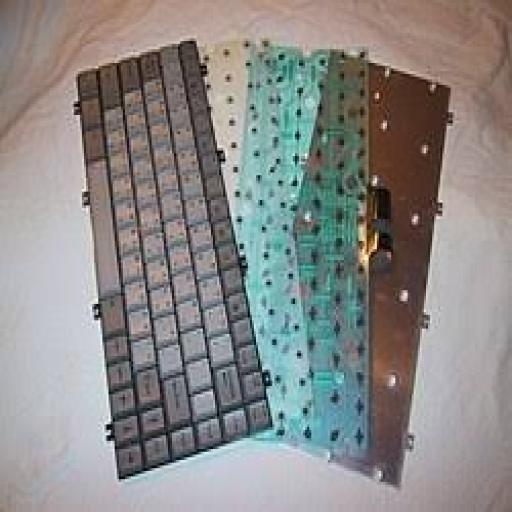KEYBOARD-2: (78, 41, 268, 474)
